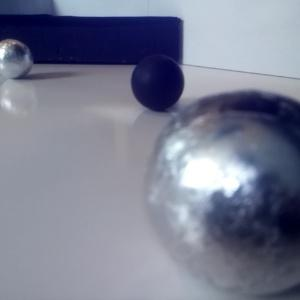zone: (1, 13, 184, 66)
